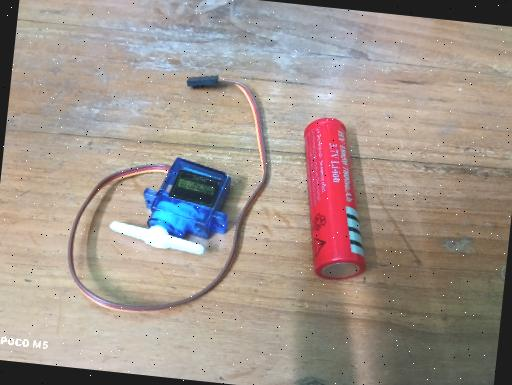Battery: (288, 115, 380, 282)
Motor: (107, 150, 232, 257)
